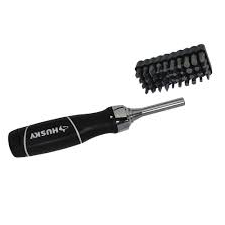Screwdriver: (7, 93, 188, 152)
